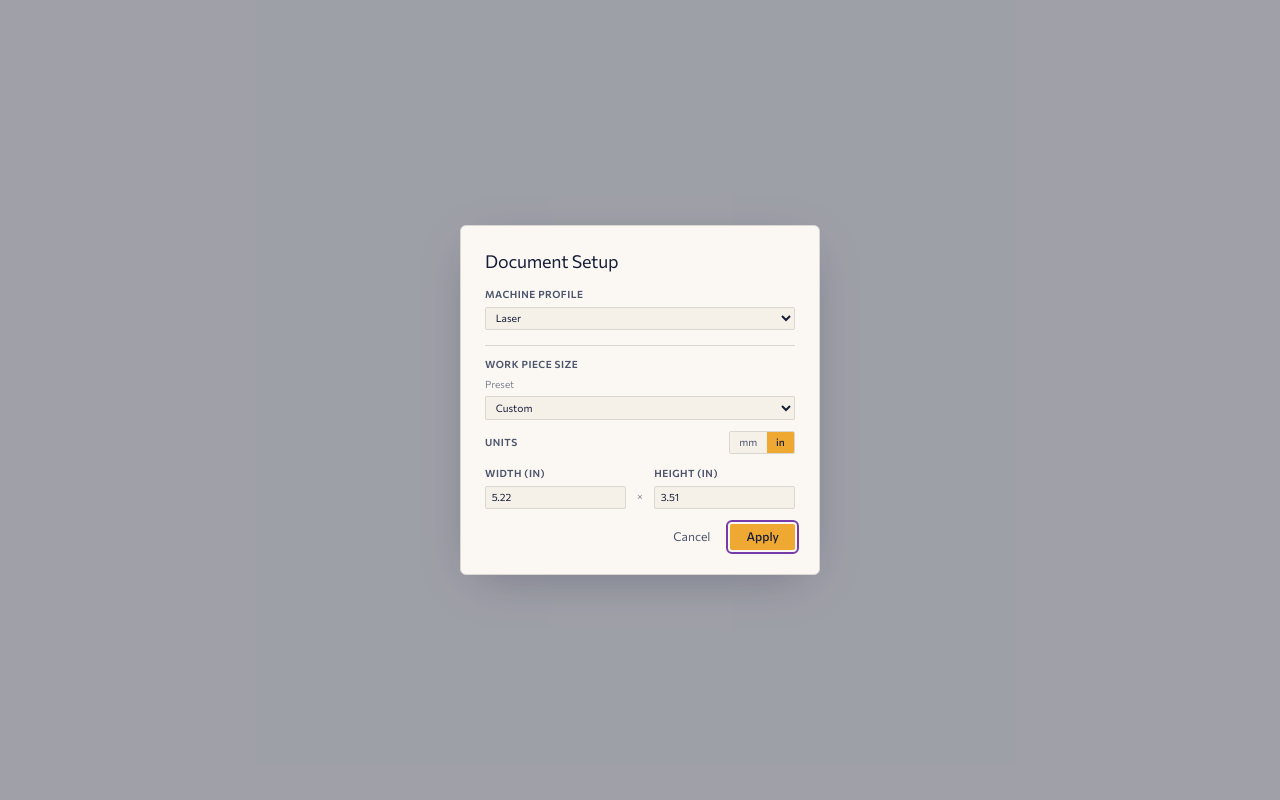
DocumentSetupDialog — work piece size is px-canonical (#16 follow-up) › choosing a preset from Custom fills the Width/Height dims in the active unit
Select "12 × 24\"" in the dropdown named "work piece preset". click: (640, 408)
box: [485,396,795,420]
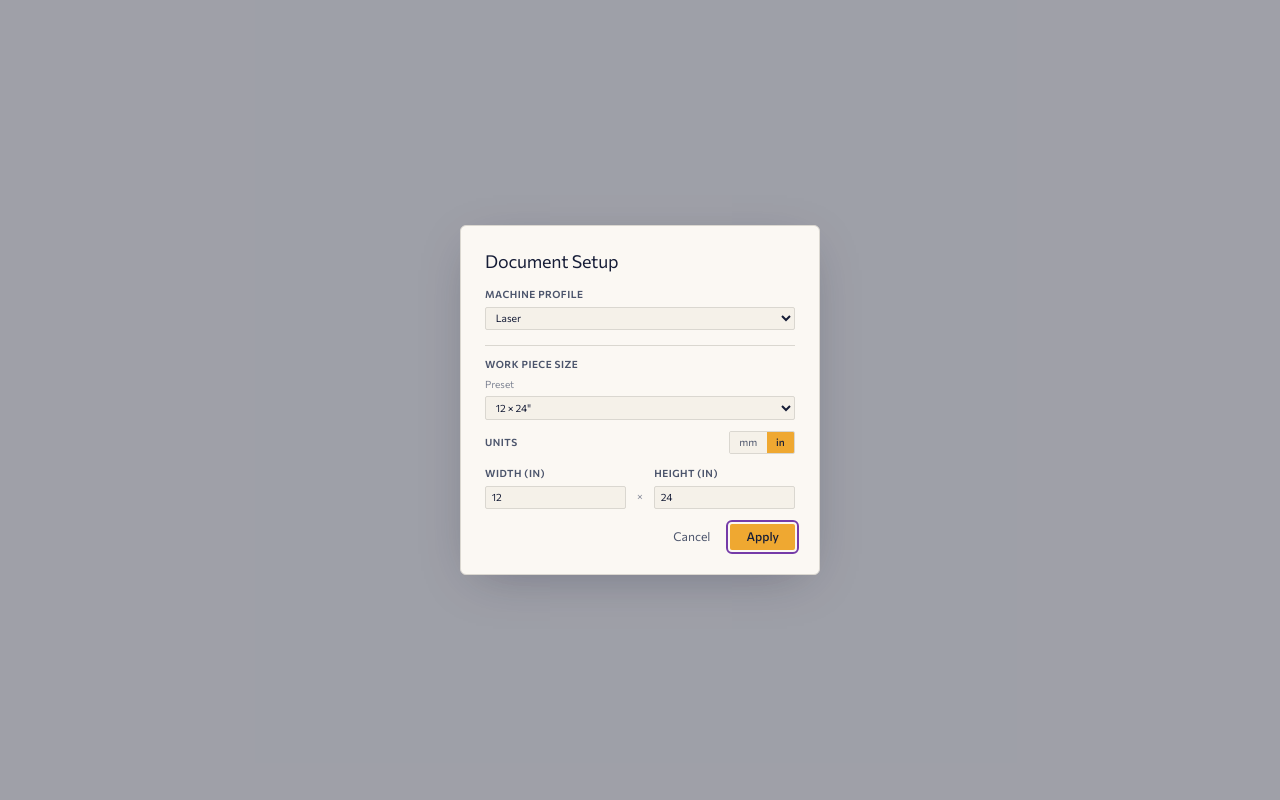
Expected: the number field labelled "Width (in)" holds "12", [485,486,626,509]
Expected: the number field labelled "Height (in)" holds "24", [654,486,795,509]
